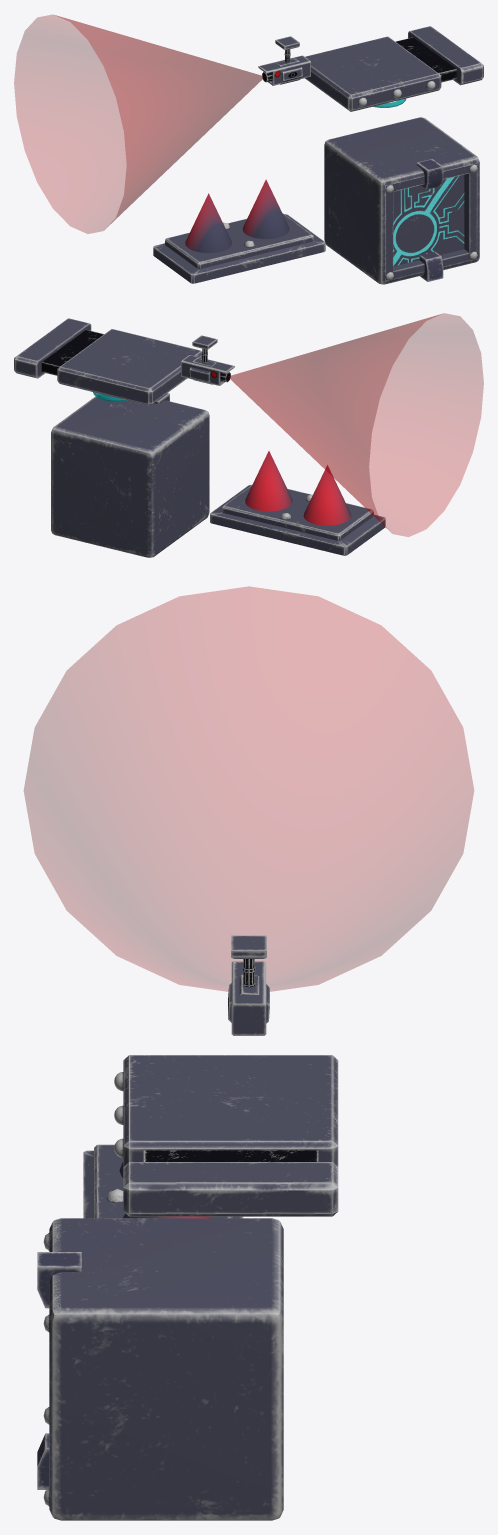
Rendered from props.fbx.
3 renders of one model, top to bottom at view 1: azimuth 30°, elevation 25°; view 2: azimuth 150°, elevation 25°; view 3: azimuth 270°, elevation 25°, orthographic. The views are drawn at different scales.
Parts seen in each view (by area): view 1: pCone1, movingObstacle, spikes, movingPlatform, movingPlatform3, pCube6, pCube9, pCube10; view 2: pCone1, movingObstacle, spikes, movingPlatform, movingPlatform3, pCube6; view 3: pCone1, movingObstacle, movingPlatform, movingPlatform3, spikes, pCube6, pCube9.
Boxes of the visible parts, left/top/right/bottom form: pCone1: left=14, top=14, right=264, bottom=233; movingObstacle: left=324, top=117, right=479, bottom=284; spikes: left=153, top=179, right=325, bottom=283; movingPlatform: left=305, top=36, right=441, bottom=111; movingPlatform3: left=395, top=26, right=483, bottom=85; pCube6: left=258, top=49, right=310, bottom=85; pCube9: left=416, top=159, right=443, bottom=189; pCube10: left=419, top=252, right=443, bottom=281; pCone1: left=228, top=313, right=483, bottom=536; movingObstacle: left=51, top=394, right=209, bottom=557; spikes: left=210, top=451, right=385, bottom=555; movingPlatform: left=57, top=329, right=202, bottom=405; movingPlatform3: left=14, top=318, right=103, bottom=378; pCube6: left=181, top=348, right=234, bottom=385; pCone1: left=24, top=586, right=473, bottom=991; movingObstacle: left=43, top=1218, right=283, bottom=1520; movingPlatform: left=114, top=1055, right=338, bottom=1166; movingPlatform3: left=123, top=1150, right=338, bottom=1216; spikes: left=83, top=1144, right=243, bottom=1218; pCube6: left=228, top=959, right=269, bottom=1035; pCube9: left=37, top=1252, right=81, bottom=1308.
Size of the model in its own units: 40.84 by 30.06 by 20.78.
3 materials, 1 textured.
